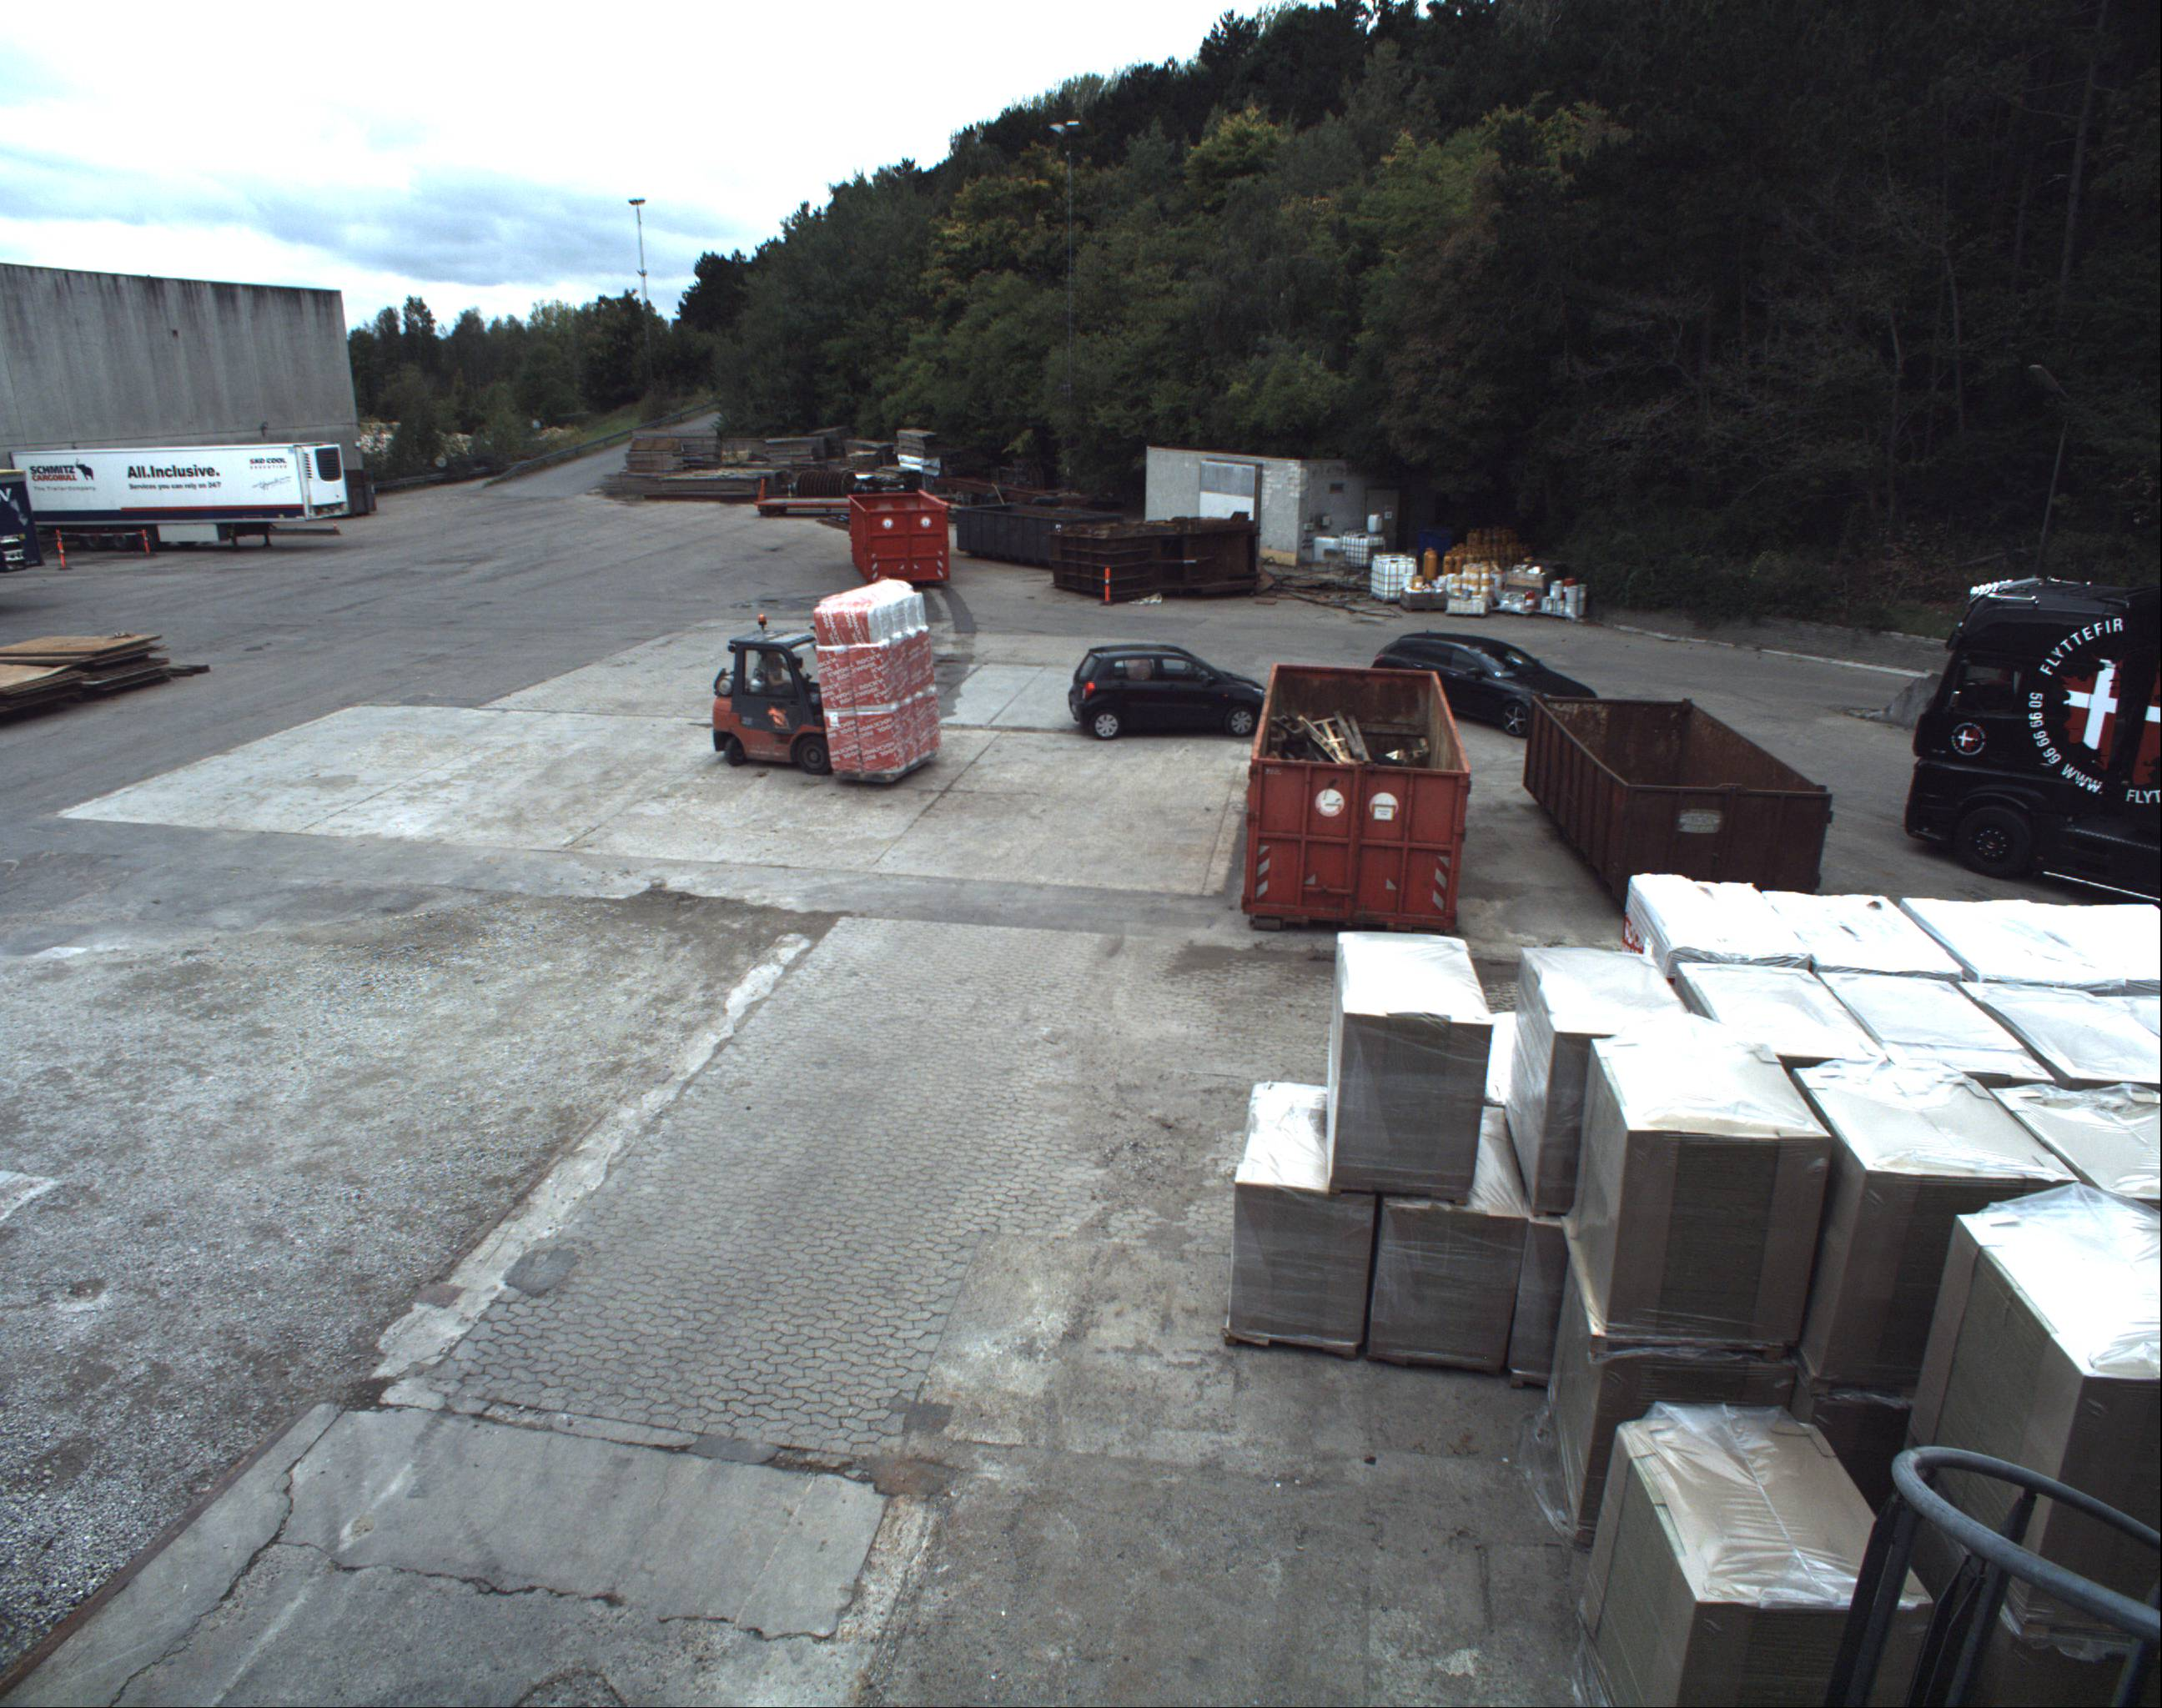rockwool_batts: (809, 578, 948, 774)
